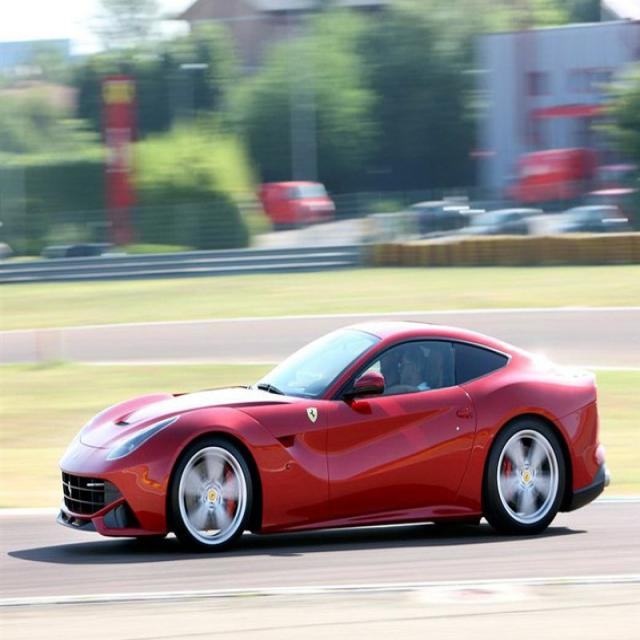front_bumper: (55, 427, 171, 537)
front_glass: (250, 323, 382, 398)
front_left_side_door: (322, 334, 480, 524)
front_left_side_light: (105, 411, 182, 462)
front_left_side_mirror: (346, 371, 386, 402)
rear_bumper: (550, 398, 614, 514)
wheel: (165, 432, 254, 554), (482, 416, 565, 533)
